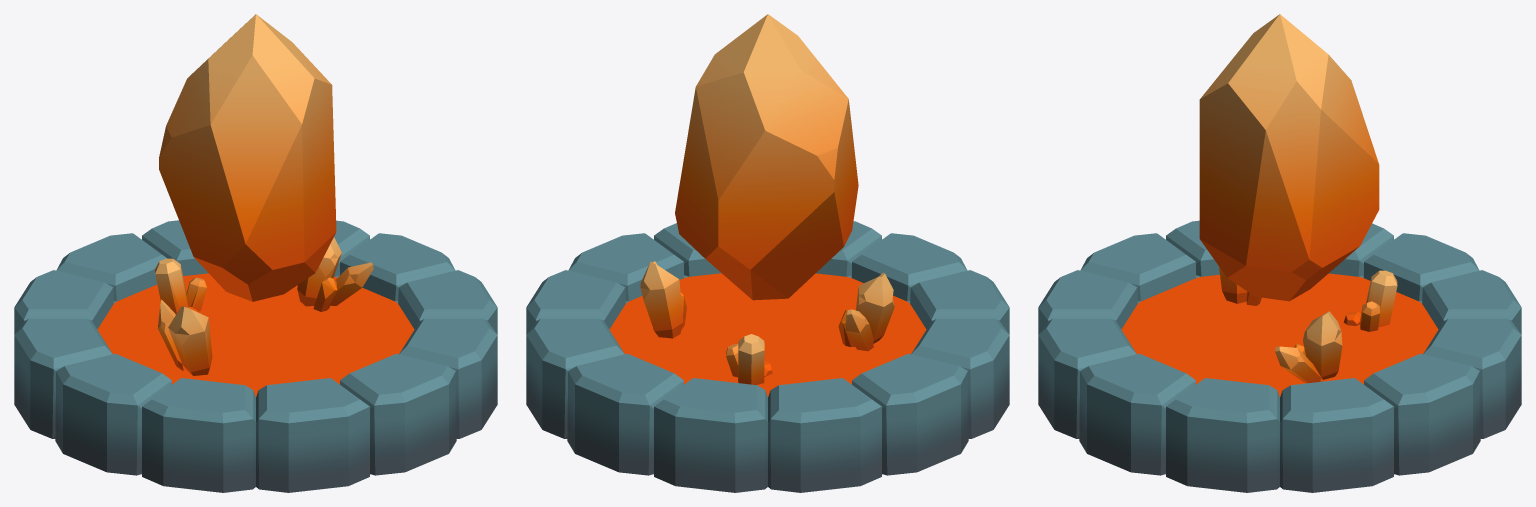
File: Crystal_with_stand_01.fbx
3 views of the same model, side by side, from view 1: azimuth 30°, elevation 25°; view 2: azimuth 150°, elevation 25°; view 3: azimuth 270°, elevation 25° (orthographic).
Visible parts, largest first — view 1: Crystal_with_stand, Cylinder.001, Crystal_02.009, Crystal_02.008, Crystal_01.008; view 2: Crystal_with_stand, Cylinder.001, Crystal_02.009, Crystal_02.008, Crystal_01.008; view 3: Crystal_with_stand, Cylinder.001, Crystal_02.008, Crystal_01.008, Crystal_02.009.
Boxes of the visible parts, x1,y1,x2,y2 form: Crystal_with_stand: [14, 220, 497, 492]; Cylinder.001: [159, 14, 336, 301]; Crystal_02.009: [157, 299, 212, 375]; Crystal_02.008: [297, 237, 373, 311]; Crystal_01.008: [155, 258, 206, 314]; Crystal_with_stand: [526, 221, 1009, 492]; Cylinder.001: [675, 14, 858, 300]; Crystal_02.009: [838, 272, 894, 351]; Crystal_02.008: [640, 261, 686, 338]; Crystal_01.008: [726, 334, 772, 384]; Crystal_with_stand: [1038, 220, 1521, 492]; Cylinder.001: [1199, 14, 1379, 301]; Crystal_02.008: [1275, 311, 1342, 383]; Crystal_01.008: [1343, 270, 1397, 331]; Crystal_02.009: [1219, 267, 1261, 305].
Size of the model in its own units: 108 by 92.81 by 108.
